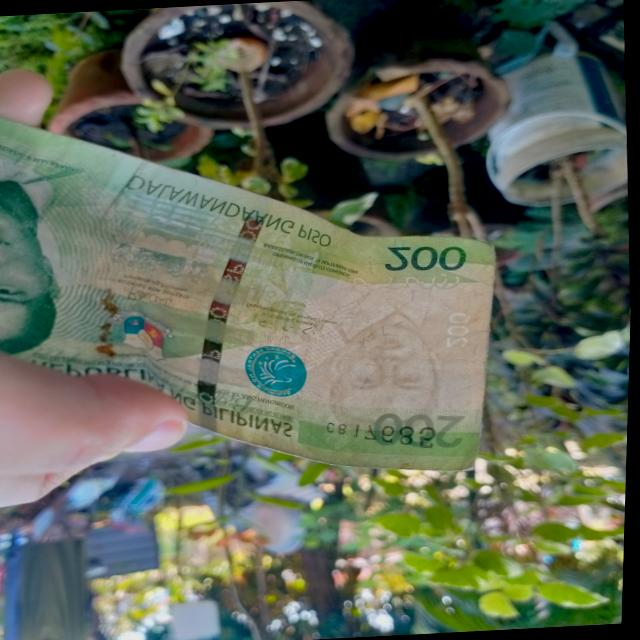security_thread: (187, 194, 282, 438)
see_through_mark: (334, 268, 464, 300)
serial_number: (322, 415, 445, 455)
value_watermark: (441, 301, 479, 353)
watermark: (308, 285, 458, 444)
